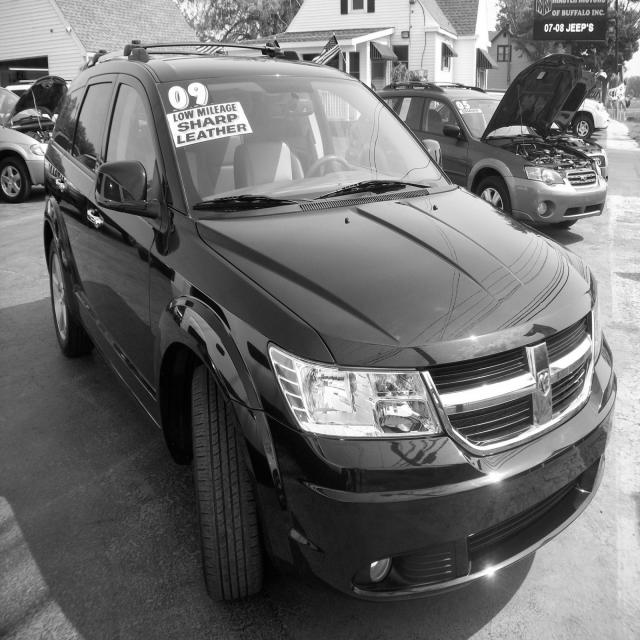car: (42, 38, 617, 604), (346, 53, 608, 228)
